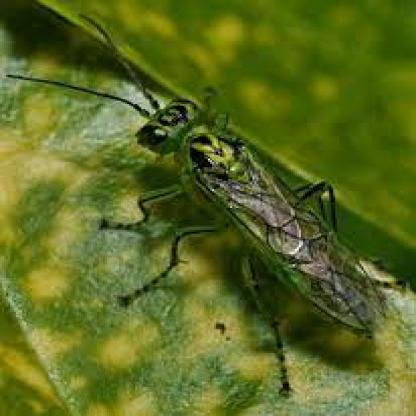sawfly: (8, 14, 409, 401)
